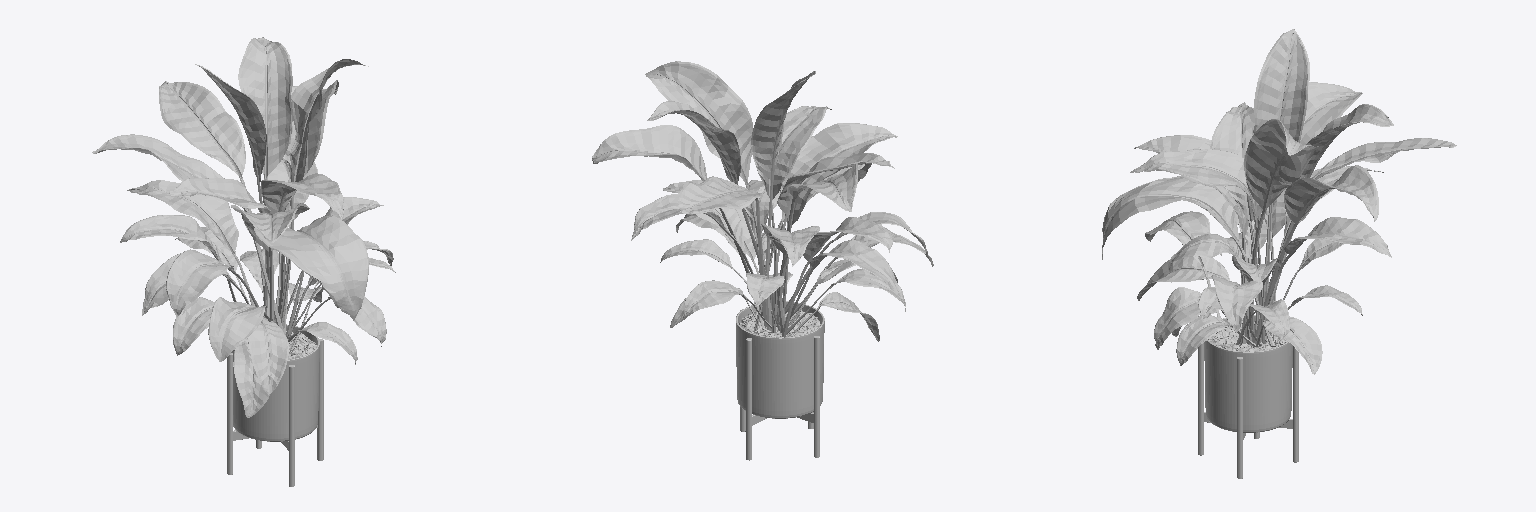
File: Plant_obj.obj
3 views of the same model, side by side, from view 1: azimuth 30°, elevation 25°; view 2: azimuth 150°, elevation 25°; view 3: azimuth 270°, elevation 25° (orthographic).
Visible parts, largest first — view 1: Plant_007, Plant_005, Plant_003; view 2: Plant_007, Plant_005, Plant_003; view 3: Plant_007, Plant_005, Plant_003.
Boxes of the visible parts, x1,y1,x2,y2 form: Plant_007: [92, 37, 395, 417]; Plant_005: [231, 324, 319, 441]; Plant_003: [227, 339, 323, 486]; Plant_007: [592, 61, 933, 341]; Plant_005: [736, 301, 824, 418]; Plant_003: [740, 309, 819, 460]; Plant_007: [1102, 29, 1456, 374]; Plant_005: [1204, 315, 1292, 432]; Plant_003: [1198, 343, 1298, 478].
Bounding box in the file's own units: 1108 × 1640 × 1323.